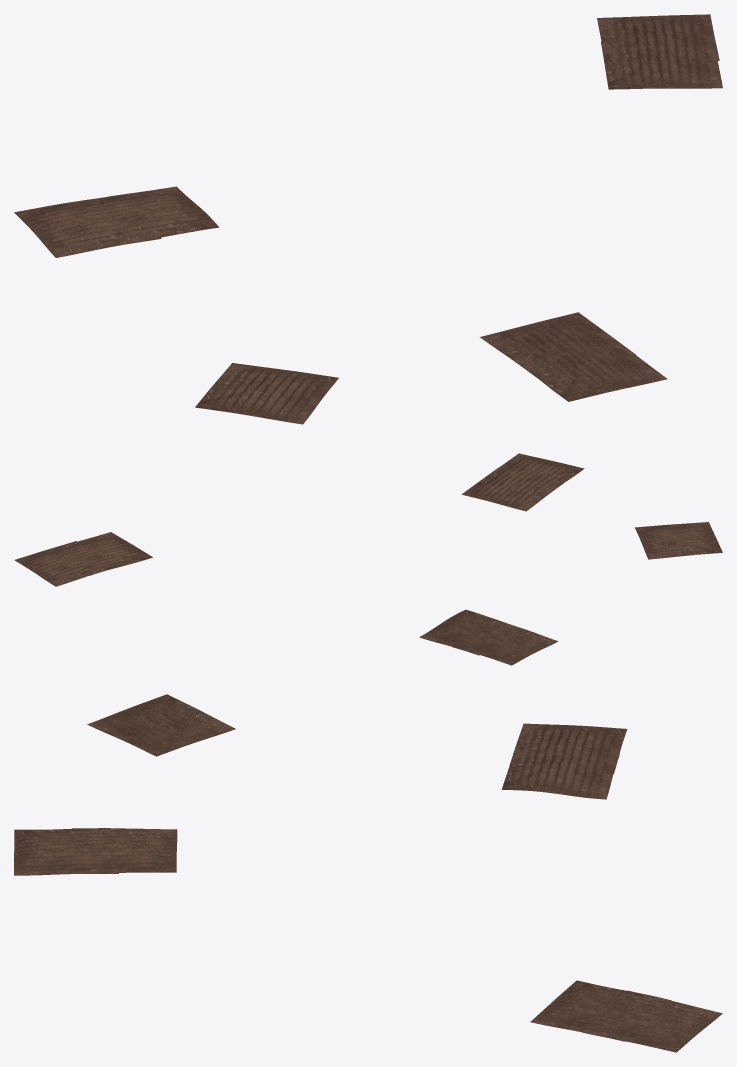
File: Grove.glb
The picture shows the model from 3 angles, top to bottom: view 1: azimuth 30°, elevation 25°; view 2: azimuth 150°, elevation 25°; view 3: azimuth 270°, elevation 25°; orthographic projection. The views are drawn at different scales.
Parts seen in each view (by area): view 1: Grove; view 2: Grove; view 3: Grove.
Part boxes in pixels (<box>): Grove: <box>14,14,722,424</box>; Grove: <box>14,453,722,665</box>; Grove: <box>14,694,722,1052</box>.
Size of the model in its own units: 31.93 by 0.3975 by 26.83.
Materials: 1 (1 with a texture image).
